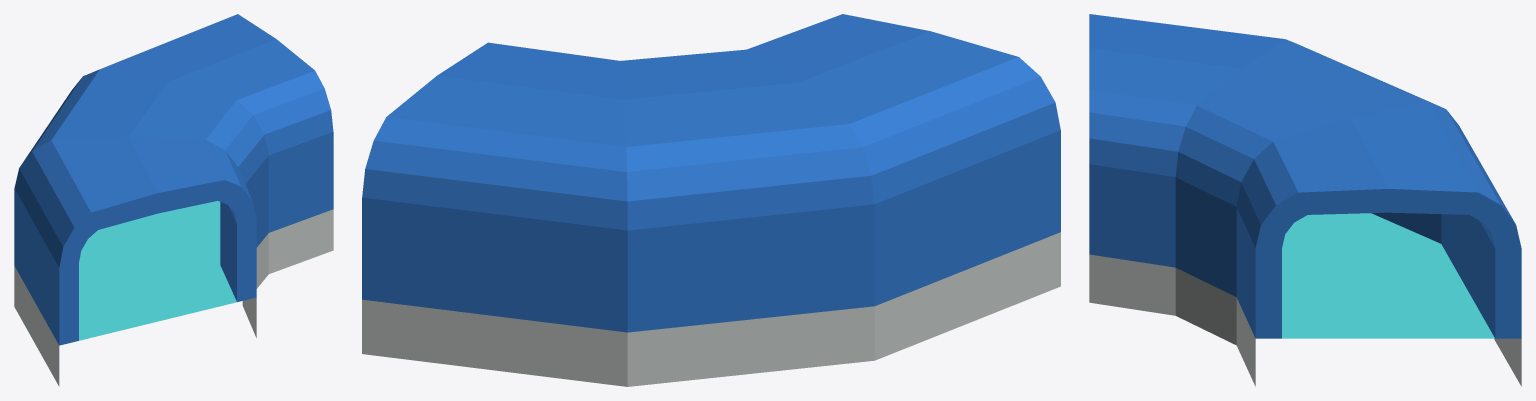
Rendered from Water_Ride_E_Right.fbx.
The picture shows the model from 3 angles, left to right: view 1: azimuth 30°, elevation 25°; view 2: azimuth 150°, elevation 25°; view 3: azimuth 270°, elevation 25°; orthographic projection. The views are drawn at different scales.
Parts seen in each view (by area): view 1: Water_Ride_E_R; view 2: Water_Ride_E_R; view 3: Water_Ride_E_R.
Part boxes in pixels (x1=…): Water_Ride_E_R: x1=14, y1=14, x2=333, y2=386; Water_Ride_E_R: x1=362, y1=14, x2=1060, y2=386; Water_Ride_E_R: x1=1089, y1=14, x2=1521, y2=386.
Bounding box in the file's own units: 700 × 329 × 650.
